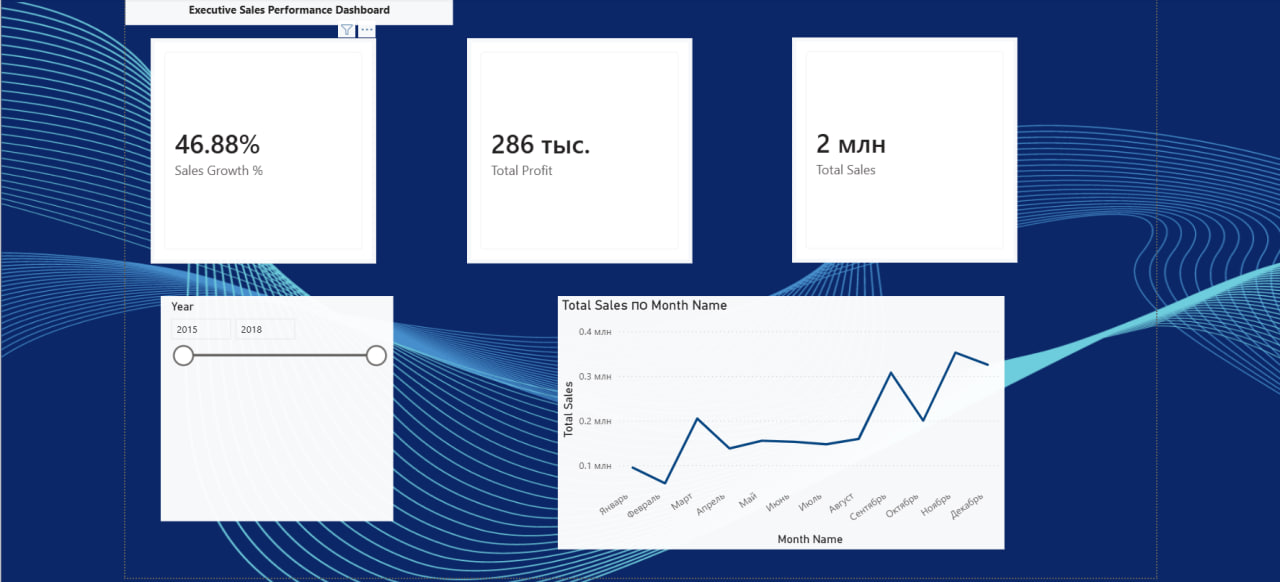

The dashboard page shown, as its layout file describes it:
{"tool":"powerbi","page":{"name":"Страница 1","canvas":[1280,720],"ordinal":0},"visuals":[{"type":"textbox","box":[9.9,0,397.6,33.1],"z":0},{"type":"cardVisual","fields":{"Data":["_Measures.Total Sales"]},"box":[828.4,48.4,280,280],"z":1},{"type":"cardVisual","fields":{"Data":["_Measures.Total Profit"]},"box":[424.5,49.3,280.3,280.3],"z":2},{"type":"cardVisual","fields":{"Data":["_Measures.Sales Growth %"]},"box":[31.3,49.3,280,280],"z":3},{"type":"slicer","fields":{"Values":["Calendar.Year"]},"box":[43.9,369.9,289.3,280.3],"z":4},{"type":"lineChart","fields":{"Y":["_Measures.Total Sales"],"Category":["Calendar.Month Name"]},"box":[537.3,369.9,555.2,315.2],"z":5}]}

Visuals, with their boxes in screenshot pixels (x1, y1, x2, y2):
textbox: <bbox>131, 0, 449, 23</bbox>
cardVisual - _Measures.Total Sales: <bbox>785, 35, 1009, 259</bbox>
cardVisual - _Measures.Total Profit: <bbox>462, 36, 686, 260</bbox>
cardVisual - _Measures.Sales Growth %: <bbox>148, 36, 372, 260</bbox>
slicer - Calendar.Year: <bbox>158, 292, 390, 516</bbox>
lineChart - _Measures.Total Sales x Calendar.Month Name: <bbox>553, 292, 996, 544</bbox>
